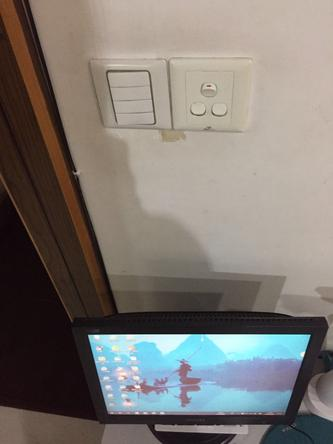switch: (105, 70, 152, 86), (109, 86, 155, 102), (113, 112, 158, 125), (109, 103, 156, 112), (200, 80, 219, 98), (190, 101, 208, 116), (213, 104, 230, 118)
